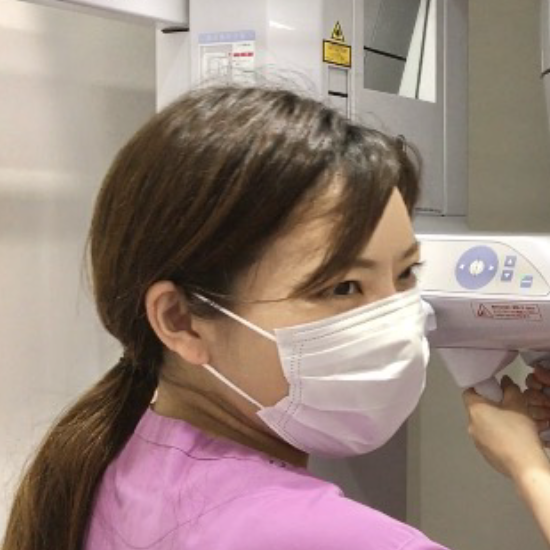mask: (255, 286, 431, 458)
